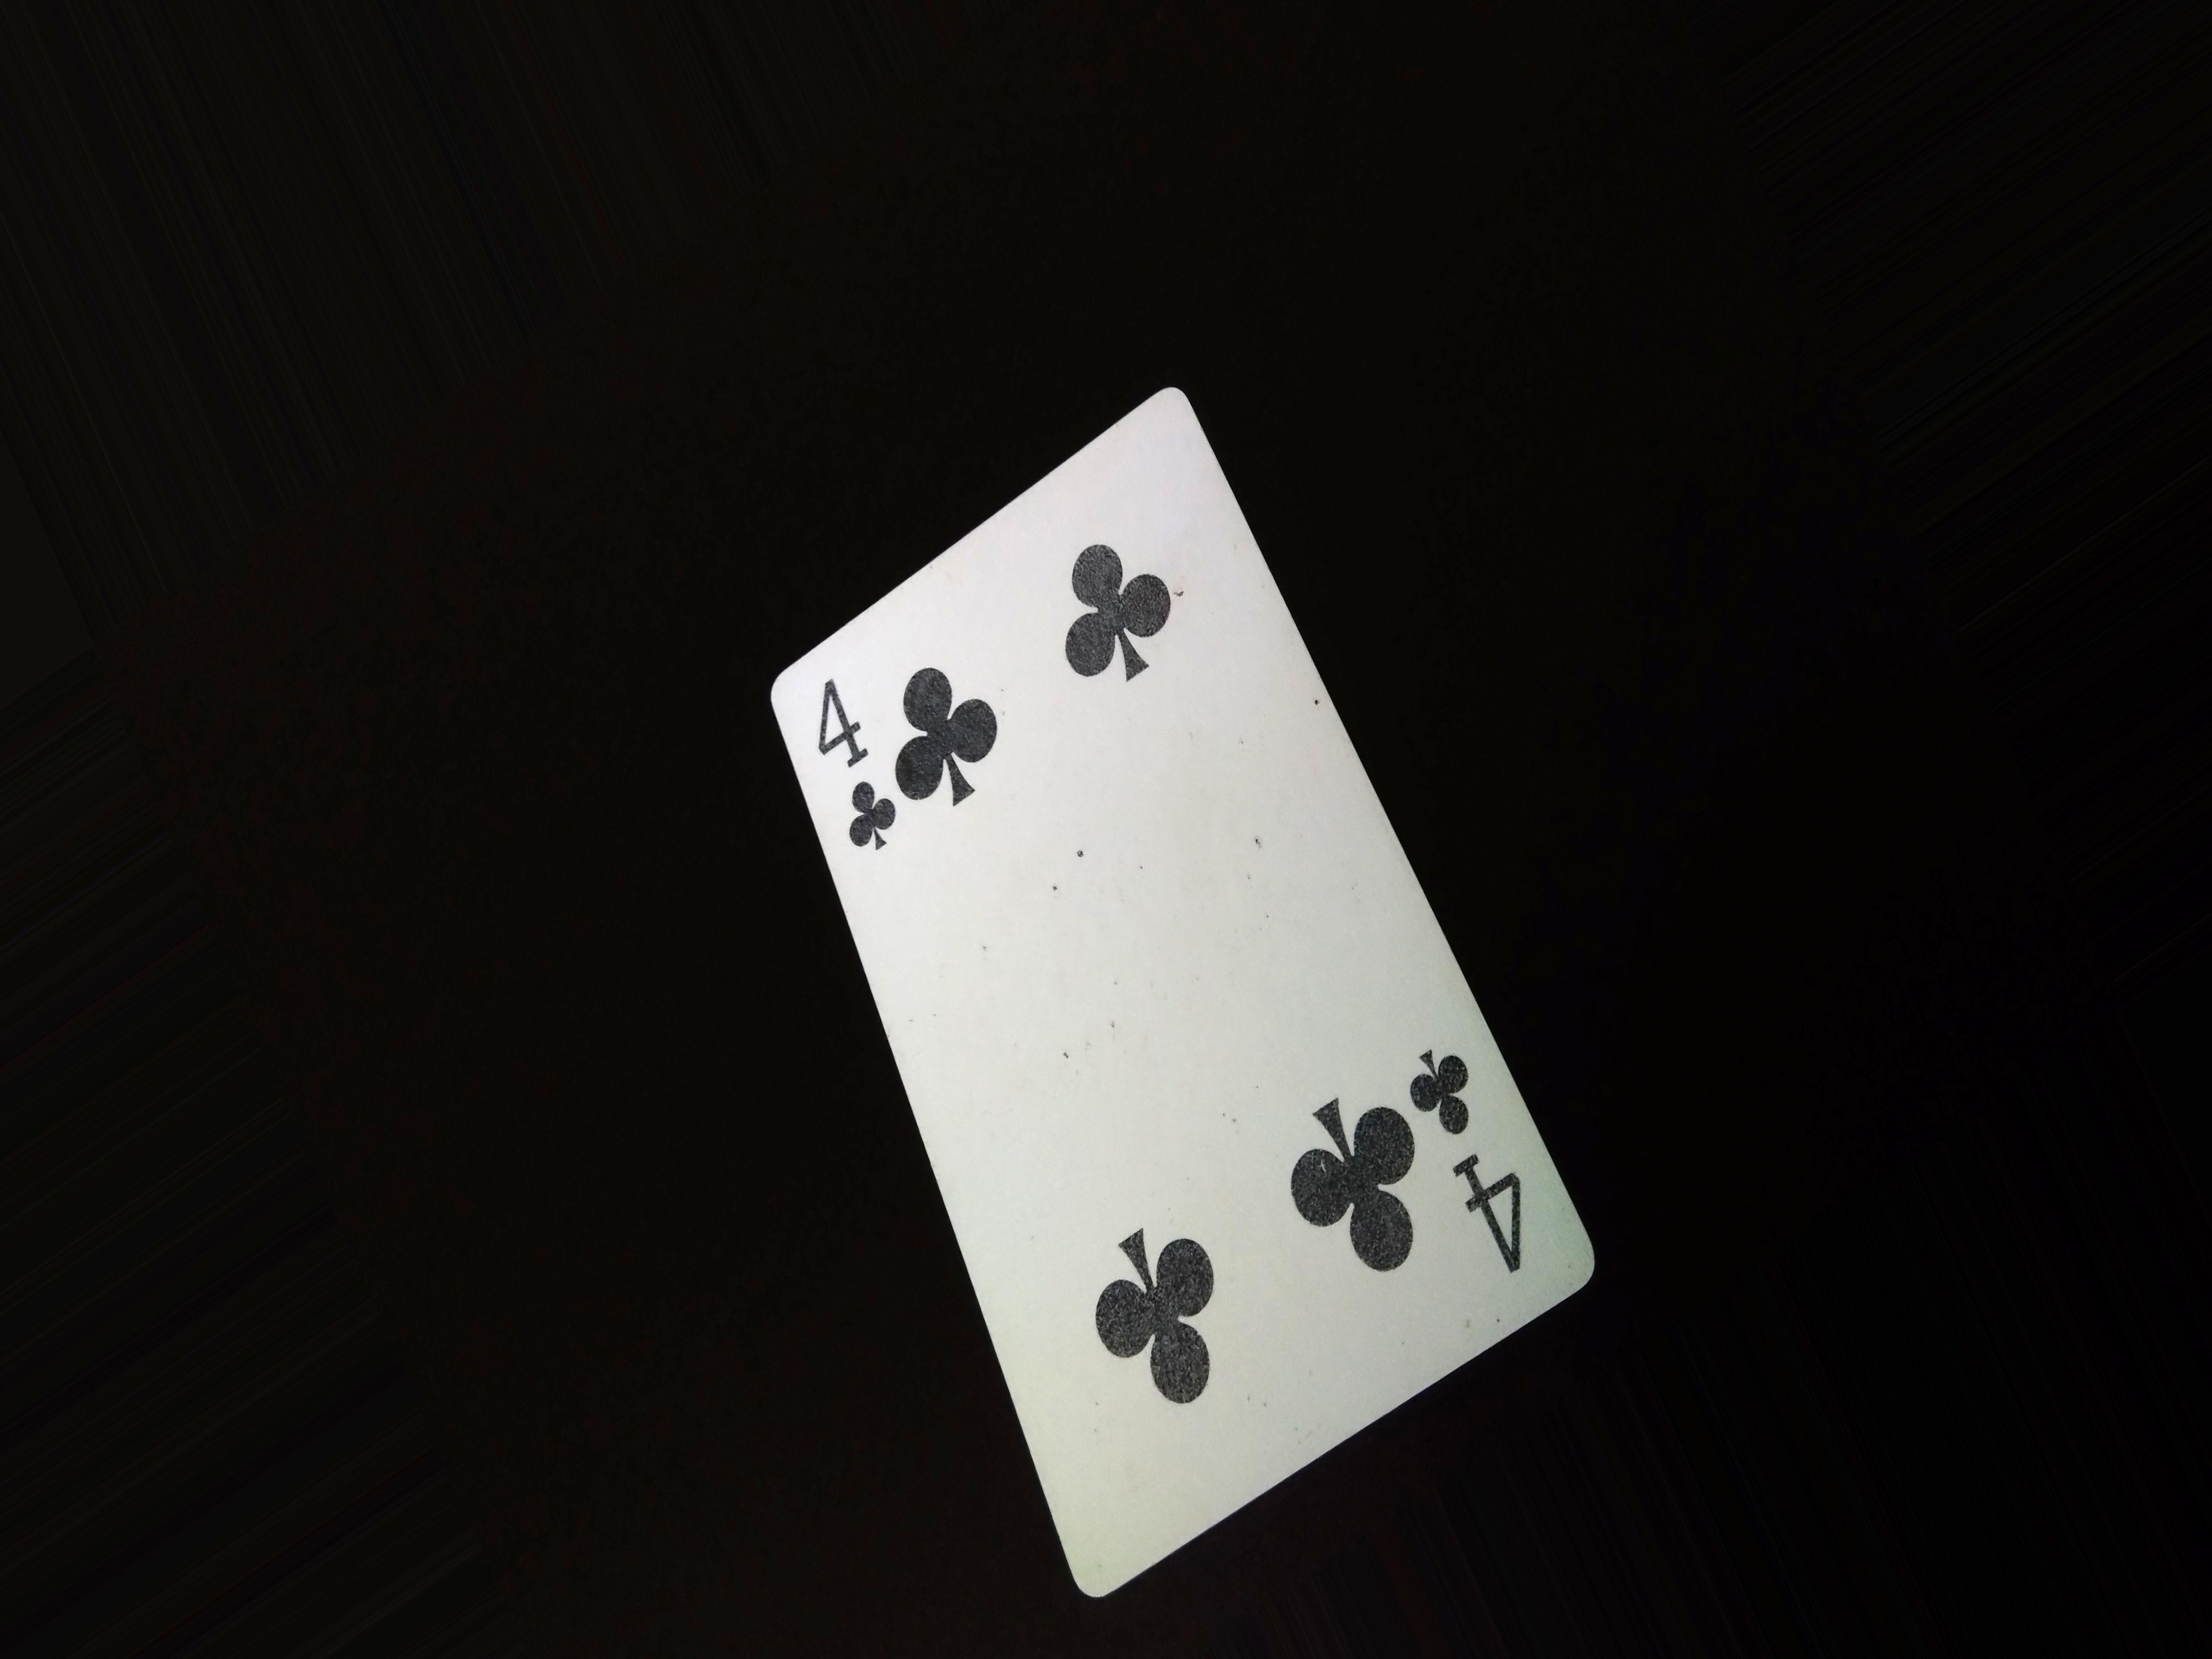4C: (822, 664, 890, 889)
